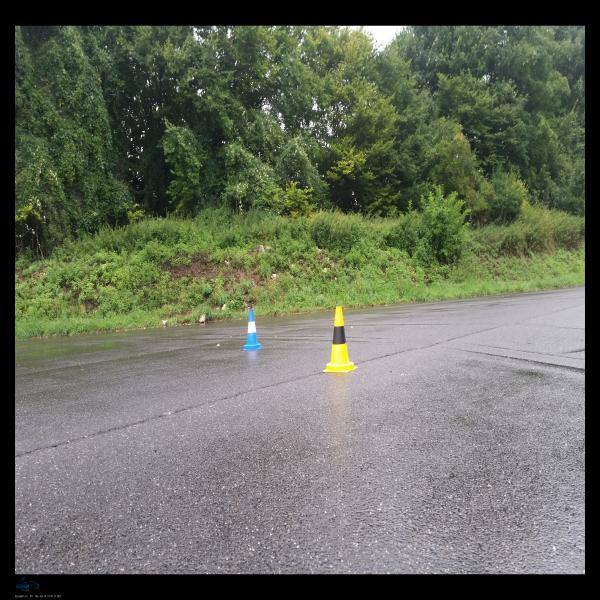blue_cone: (243, 310, 262, 350)
yellow_cone: (322, 306, 358, 372)
